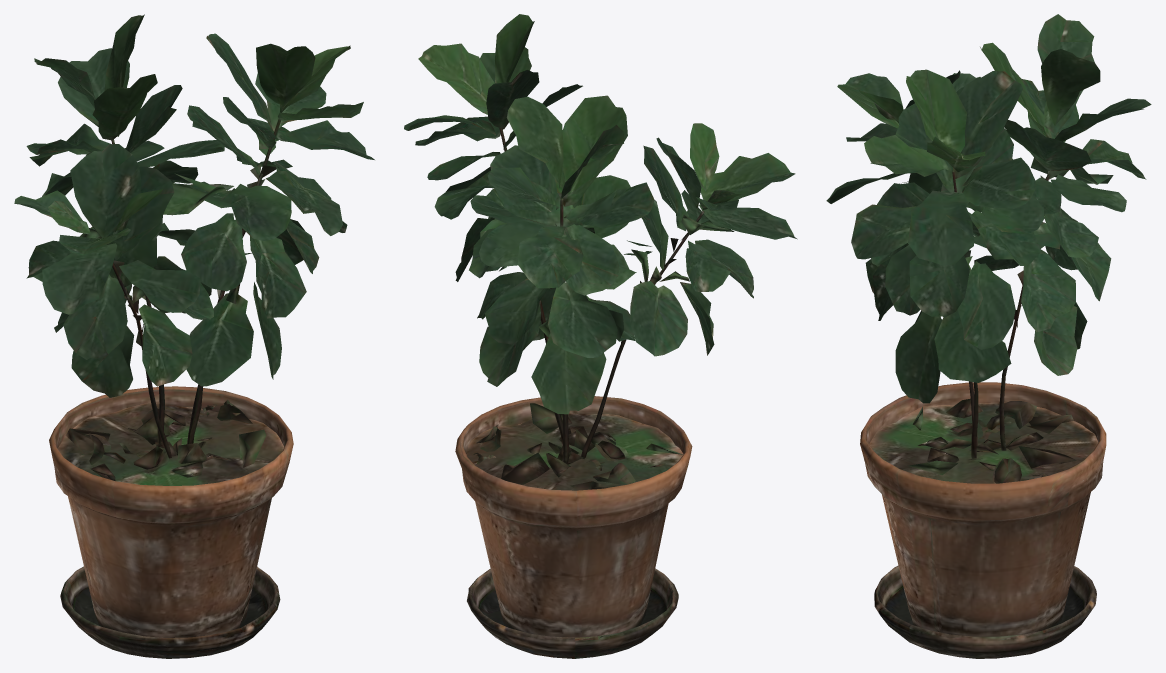
The model's file is prop_plant.glb.
The picture shows the model from 3 angles, left to right: view 1: azimuth 30°, elevation 25°; view 2: azimuth 150°, elevation 25°; view 3: azimuth 270°, elevation 25°; orthographic projection. The views are drawn at different scales.
Size of the model in its own units: 0.6104 by 0.9526 by 0.479.
Materials: 1 (1 with a texture image).
